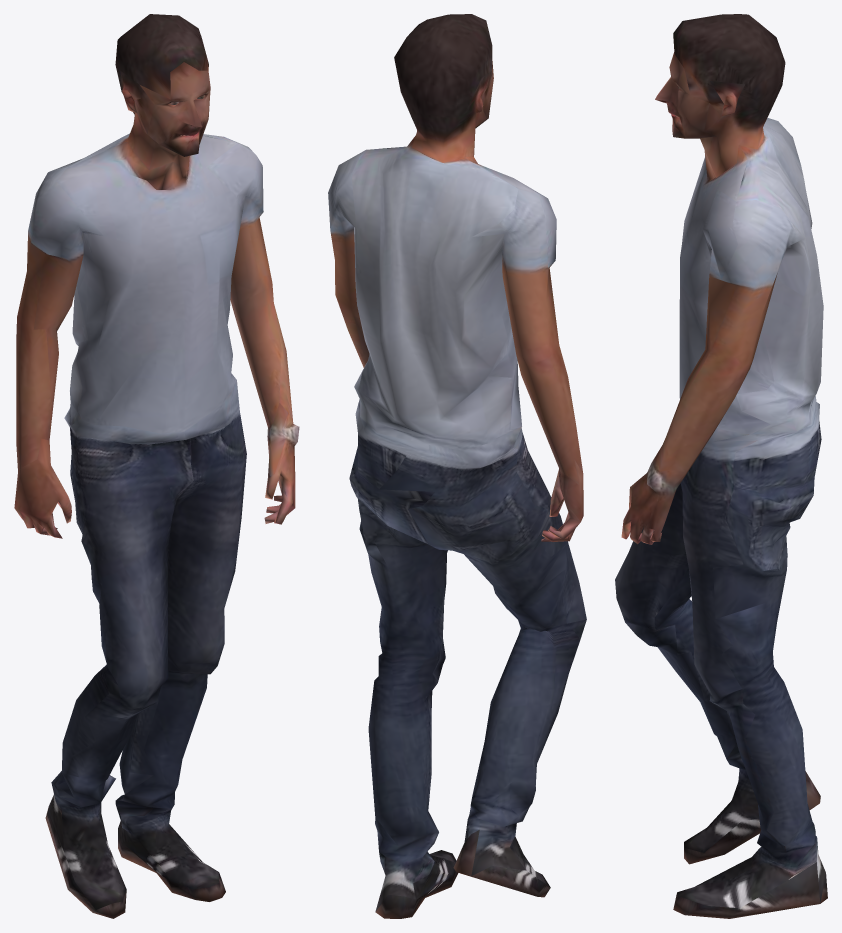
Rendered from rp_nathan_animated_003_walking_opt.glb.
3 views of the same model, side by side, from view 1: azimuth 30°, elevation 25°; view 2: azimuth 150°, elevation 25°; view 3: azimuth 270°, elevation 25° (orthographic).
Parts seen in each view (by area): view 1: rp_nathan_animated_003_walking; view 2: rp_nathan_animated_003_walking; view 3: rp_nathan_animated_003_walking.
Part boxes in pixels (x1,y1,x2,y2): rp_nathan_animated_003_walking: (14, 14, 299, 918); rp_nathan_animated_003_walking: (328, 14, 586, 918); rp_nathan_animated_003_walking: (615, 14, 827, 918).
Bounding box in the file's own units: 0.5197 × 1.75 × 0.3826.
Materials: 1 (1 with a texture image).
